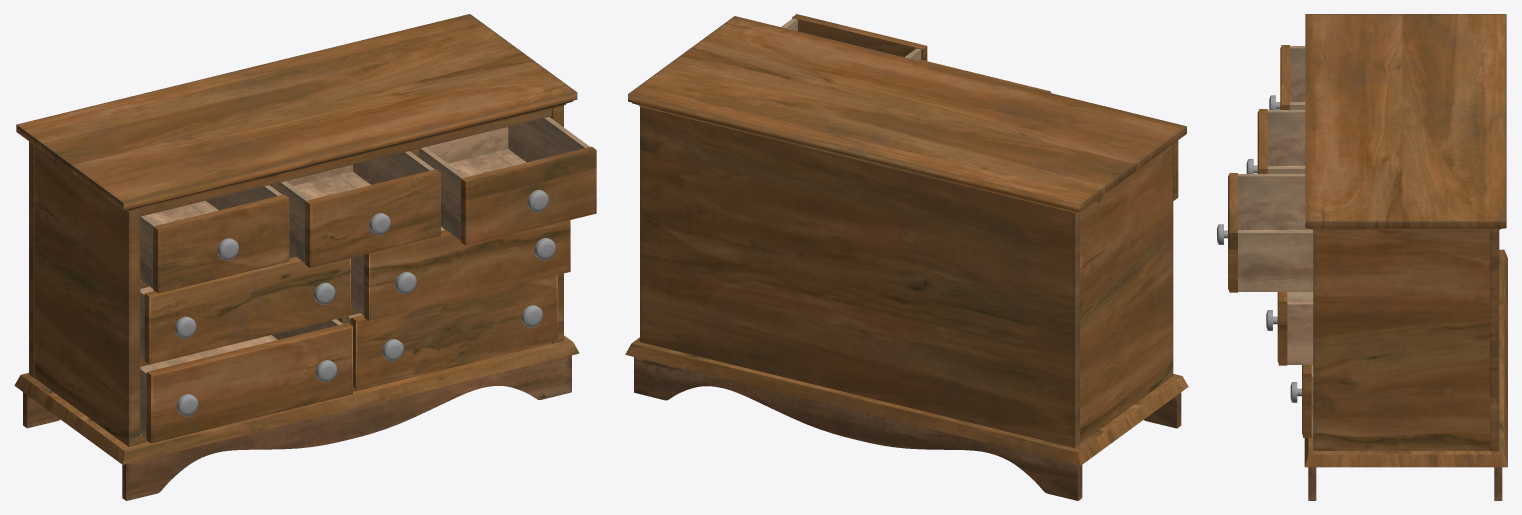
Rendered from obj_wooden_drawers_140728.glb.
3 renders of one model, left to right at view 1: azimuth 30°, elevation 25°; view 2: azimuth 150°, elevation 25°; view 3: azimuth 270°, elevation 25°, orthographic. The views are drawn at different scales.
Parts seen in each view (by area): view 1: obj_wooden_drawers_140728; view 2: obj_wooden_drawers_140728; view 3: obj_wooden_drawers_140728.
Boxes of the visible parts, bbox=[...] form: obj_wooden_drawers_140728: bbox=[14, 14, 596, 500]; obj_wooden_drawers_140728: bbox=[625, 14, 1188, 500]; obj_wooden_drawers_140728: bbox=[1217, 14, 1507, 500].
Size of the model in its own units: 1.27 by 0.8 by 0.7495.
Materials: 1 (1 with a texture image).
